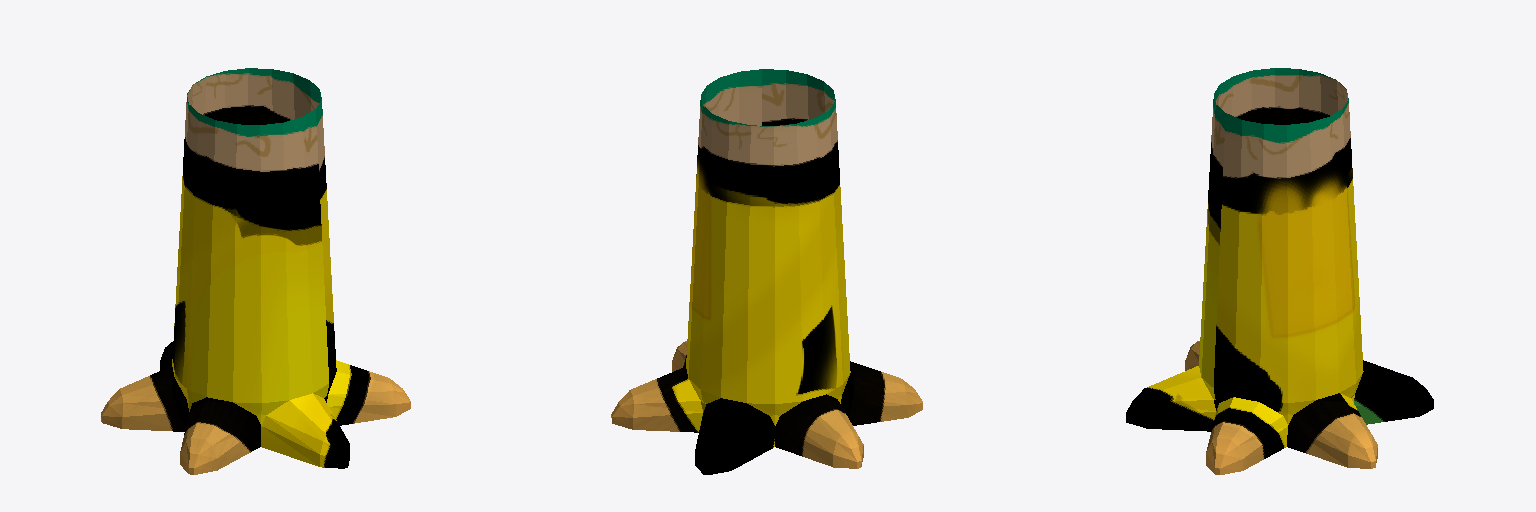
3 renders of one model, left to right at view 1: azimuth 30°, elevation 25°; view 2: azimuth 150°, elevation 25°; view 3: azimuth 270°, elevation 25°, orthographic.
Visible parts, largest first — view 1: Baumstamm_Mesh.001; view 2: Baumstamm_Mesh.001; view 3: Baumstamm_Mesh.001.
Part boxes in pixels (x1,y1,x2,y2): Baumstamm_Mesh.001: (101, 68, 410, 474); Baumstamm_Mesh.001: (611, 69, 922, 474); Baumstamm_Mesh.001: (1126, 68, 1433, 474).
Size of the model in its own units: 1.07 by 1.31 by 1.16.
1 materials, 1 textured.